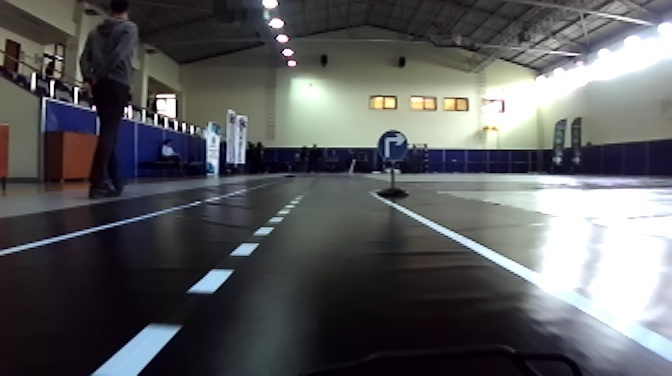saga_donus: (375, 128, 411, 164)
